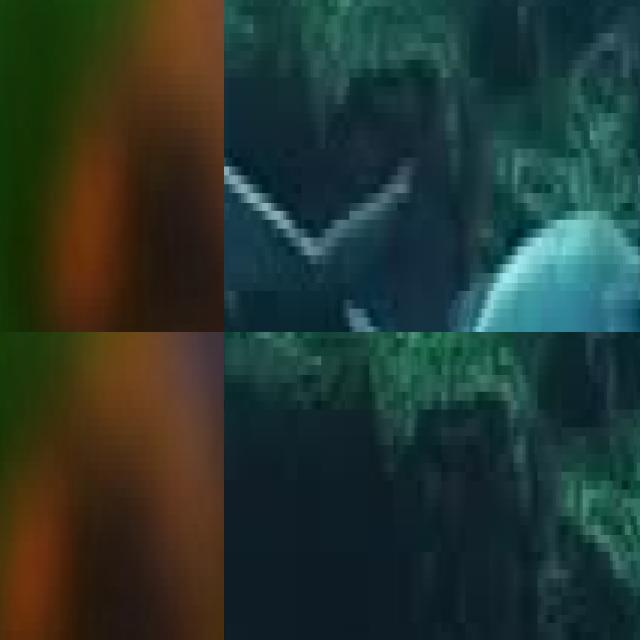fish: (0, 0, 224, 332), (349, 175, 640, 332)
